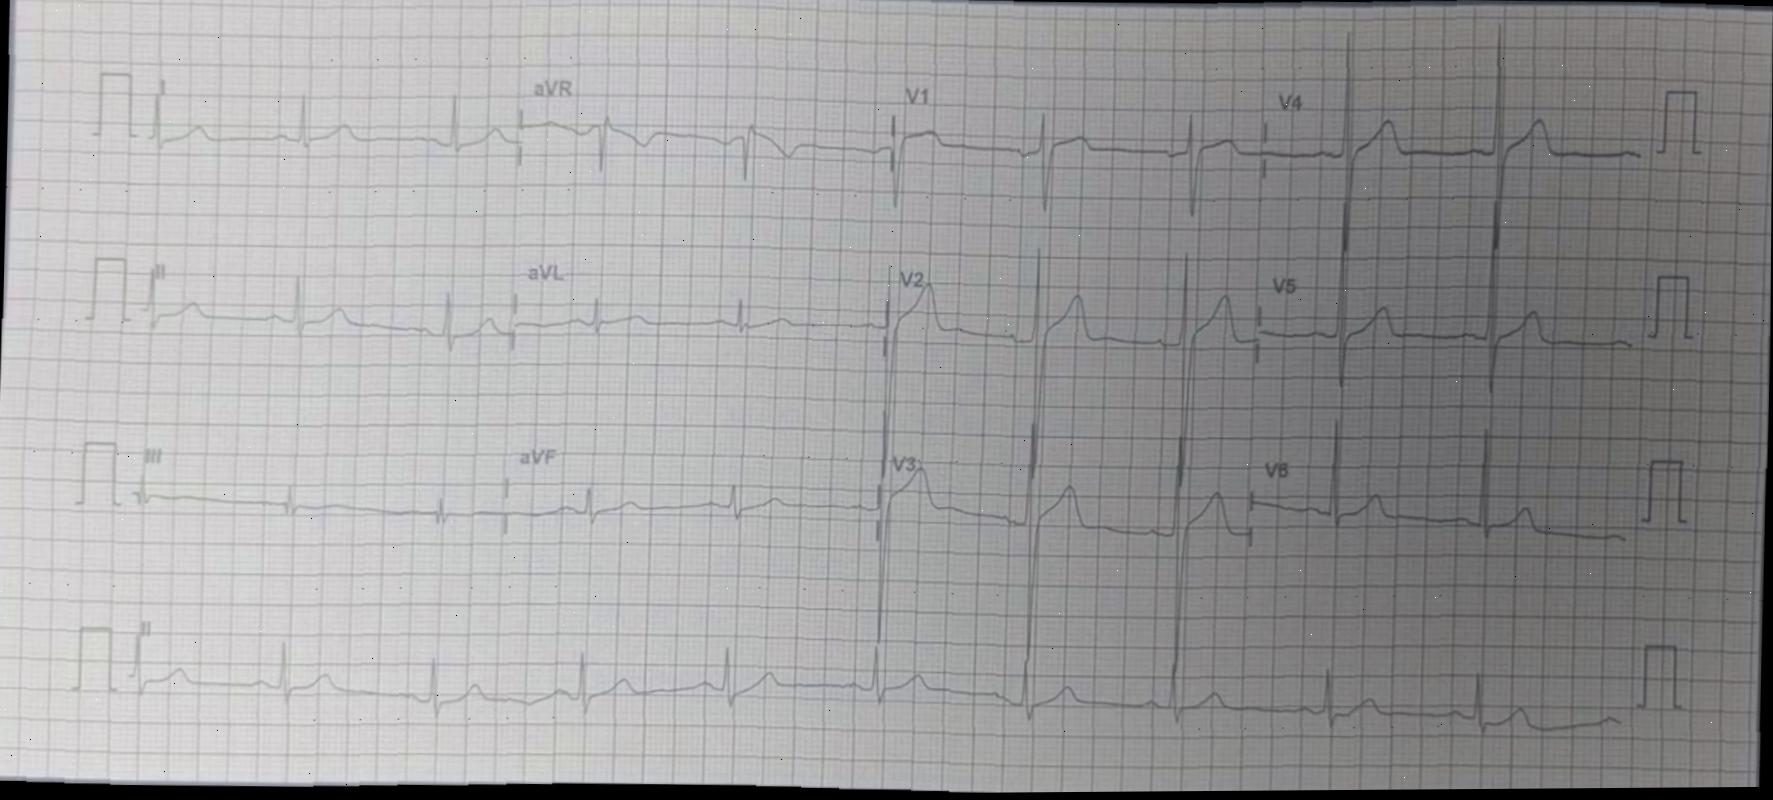Lead_I: (137, 59, 520, 188)
Lead_II: (132, 241, 514, 385)
Lead_III: (123, 427, 510, 565)
Lead_V1: (889, 62, 1265, 234)
Lead_V2: (881, 245, 1261, 486)
Lead_V3: (876, 407, 1255, 685)
Lead_V4: (1262, 10, 1646, 264)
Lead_V5: (1257, 186, 1642, 414)
Lead_V6: (116, 592, 1632, 775), (1253, 394, 1640, 593)
Lead_aVF: (503, 431, 877, 576)
Lead_aVL: (518, 241, 888, 392)
Lead_aVR: (518, 56, 889, 217)
